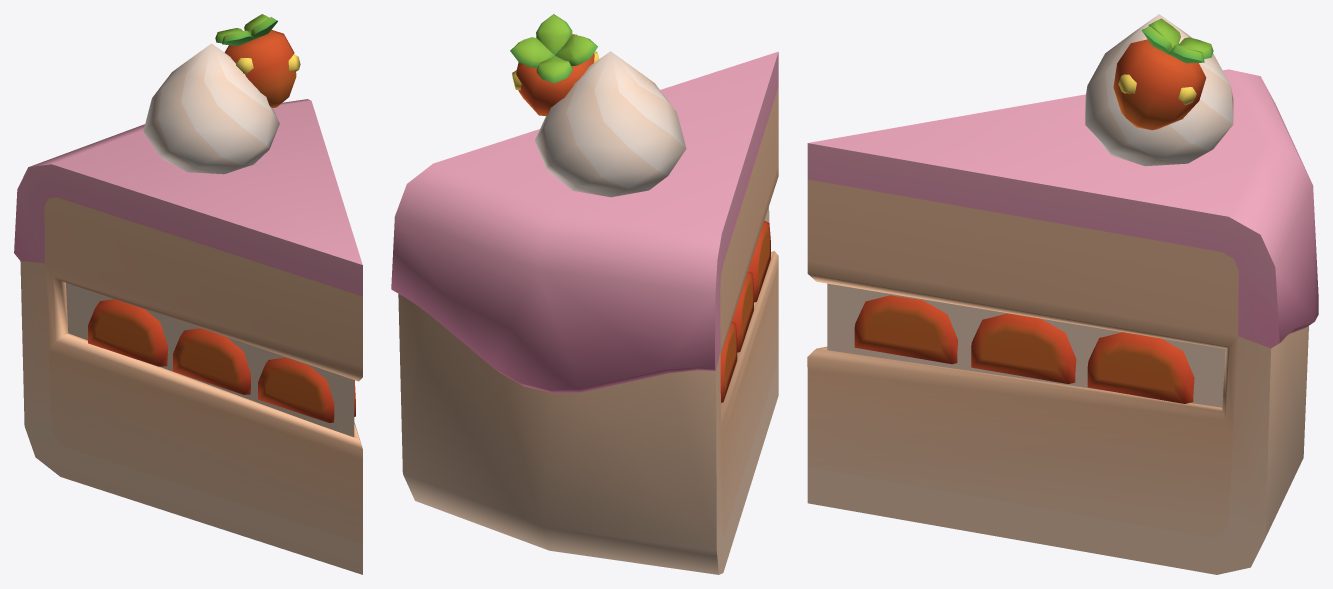
Rendered from cake_strawberry_slice.obj.
3 views of the same model, side by side, from view 1: azimuth 30°, elevation 25°; view 2: azimuth 150°, elevation 25°; view 3: azimuth 270°, elevation 25° (orthographic). The views are drawn at different scales.
Visible parts, largest first — view 1: cake_strawberry_slice; view 2: cake_strawberry_slice; view 3: cake_strawberry_slice.
Boxes of the visible parts, x1,y1,x2,y2 form: cake_strawberry_slice: (14,14,362,574); cake_strawberry_slice: (391,14,778,574); cake_strawberry_slice: (807,14,1318,574).
Size of the model in its own units: 0.4668 by 0.6687 by 0.6102.
1 material, 1 textured.
